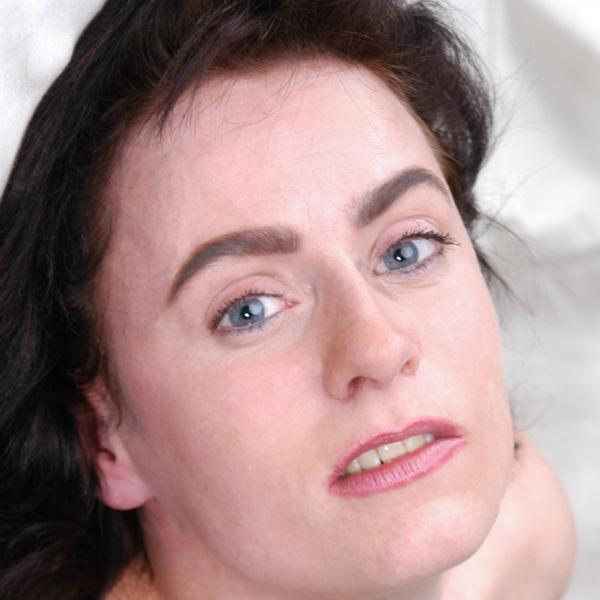Eyes: (194, 269, 312, 344), (361, 213, 454, 290)
